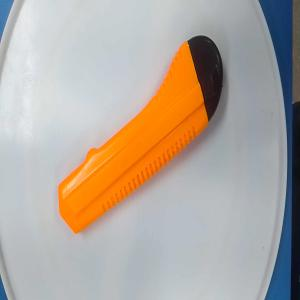estilete: (57, 35, 224, 234)
